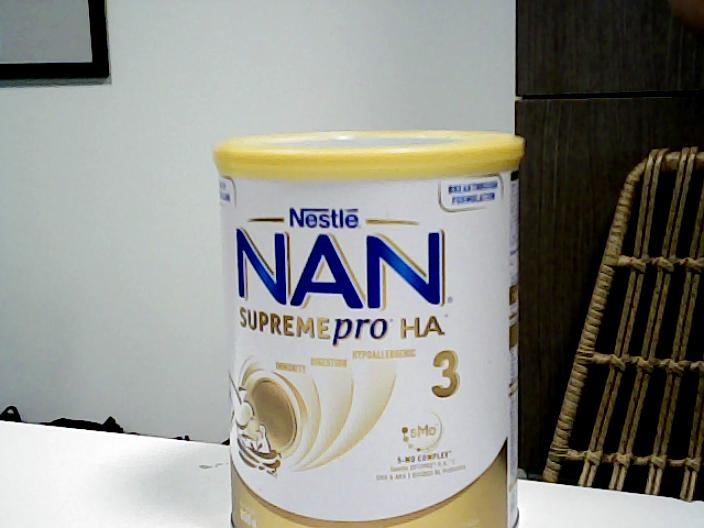Babymilk-powder_800-899g_Halal_NonHealthy: (207, 127, 522, 528)
